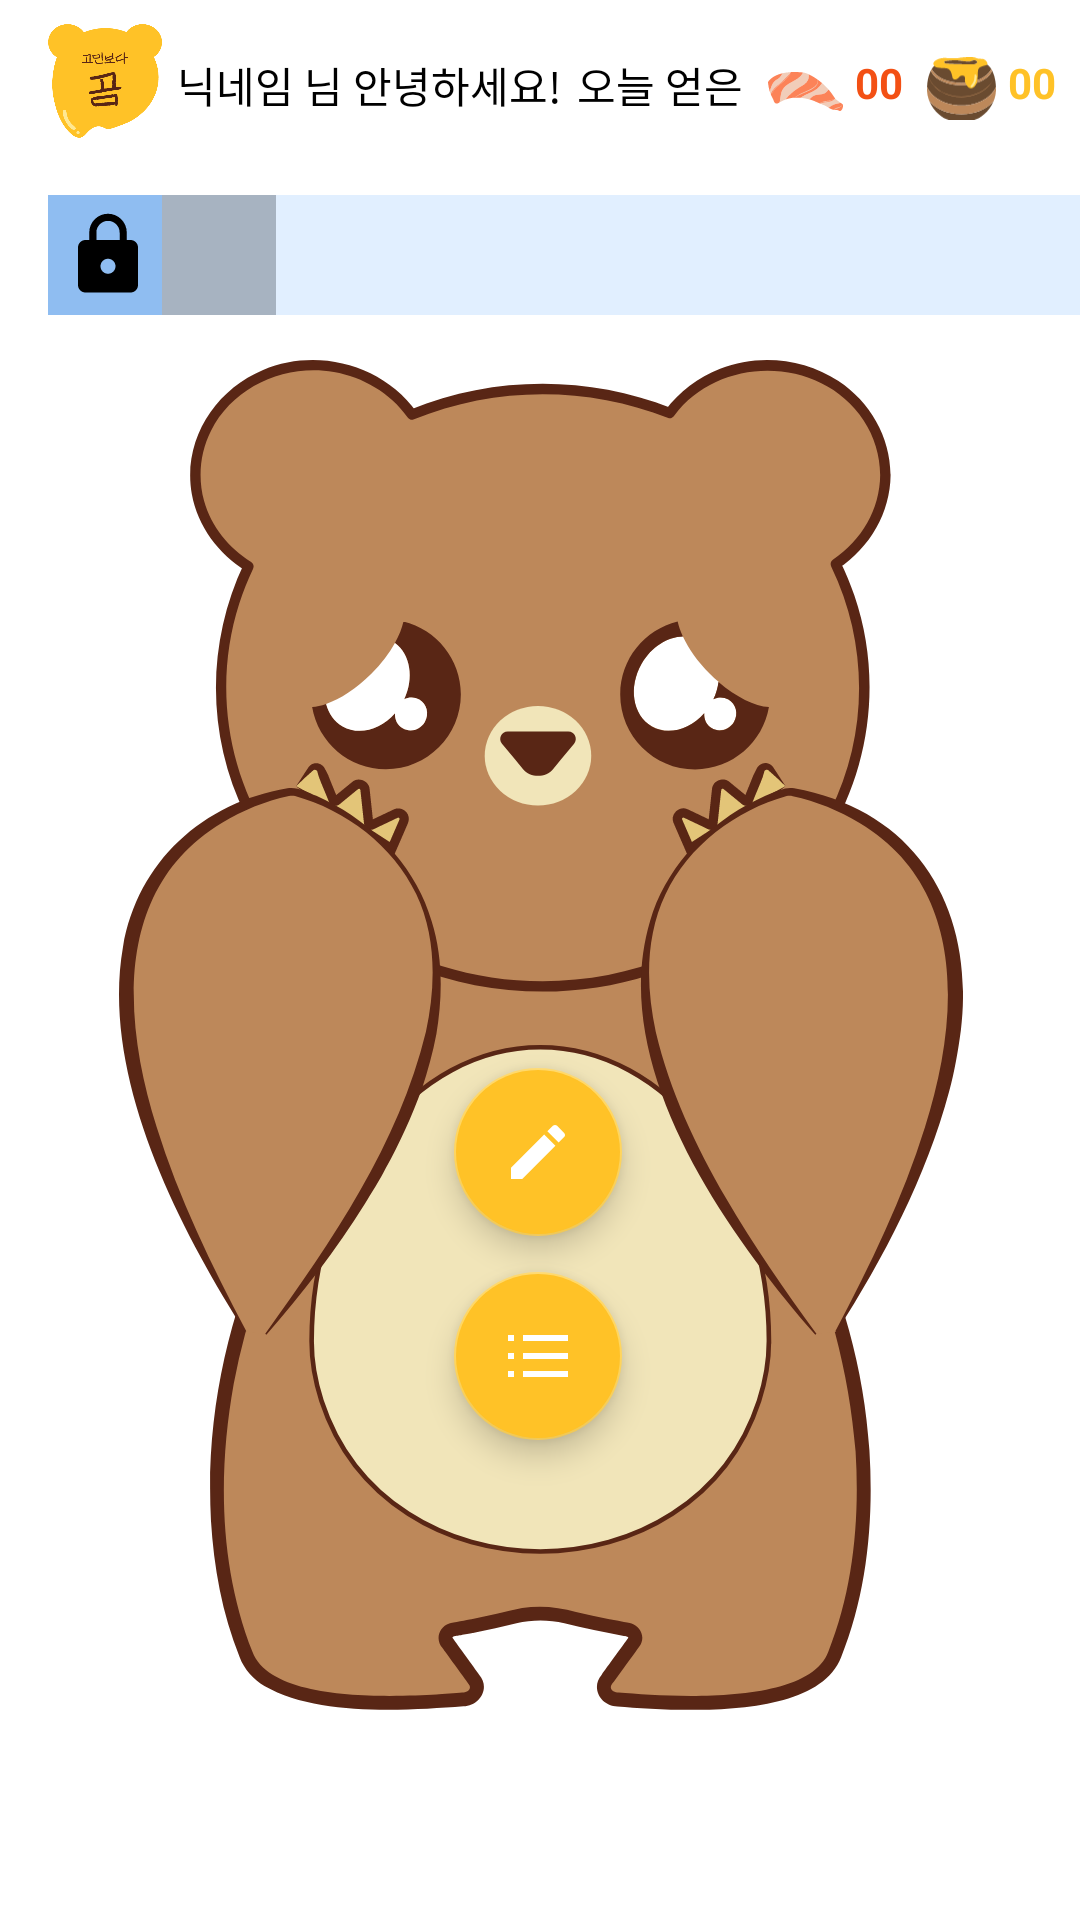

Where to tap for icons on this 1080px x 1920px app screen, as (x=x, y=y):
honey: (x=961, y=88)
list: (x=538, y=1356)
lock: (x=108, y=253)
pencil: (x=538, y=1152)
salmon: (x=805, y=91)
